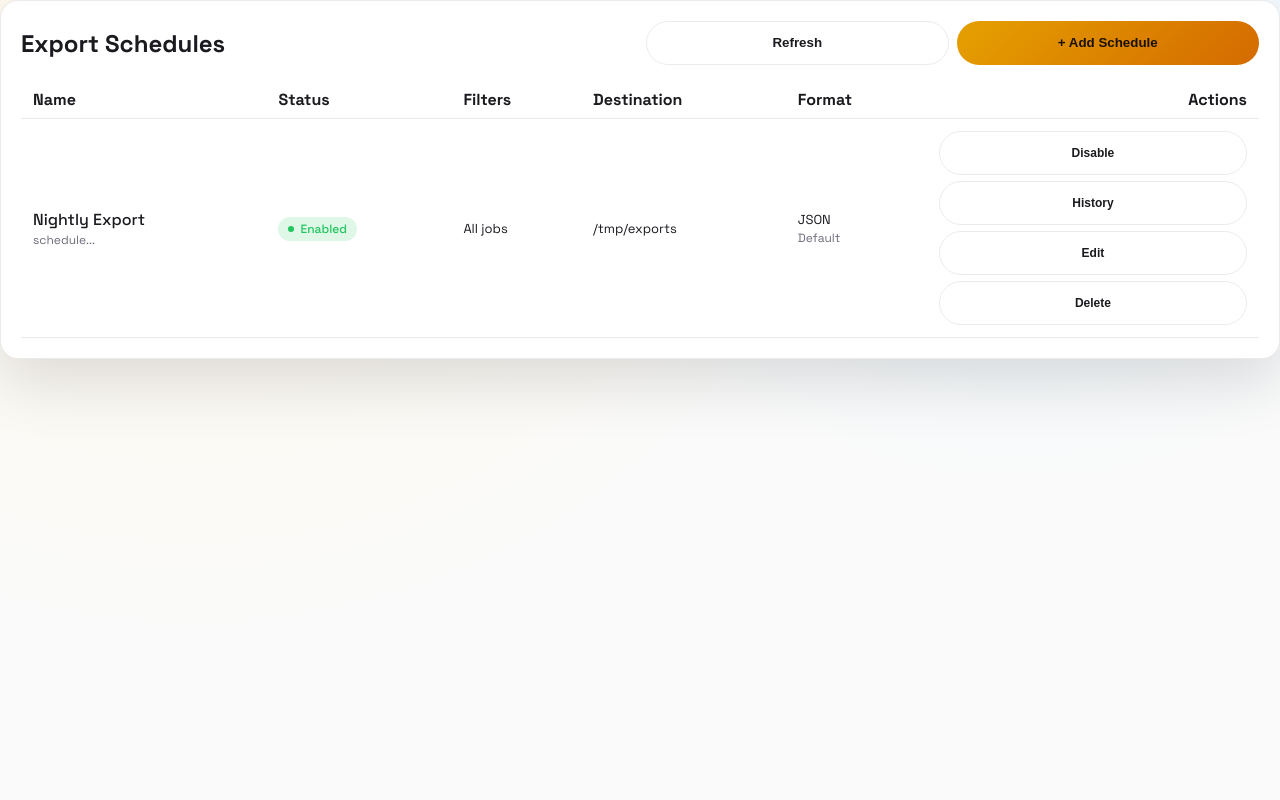
ExportScheduleManager › requests the next history page when a pagination button is clicked
The width and height of the screenshot is (1280, 800).
Click the button "History": {"x": 1093, "y": 203} [939,181,1247,225]
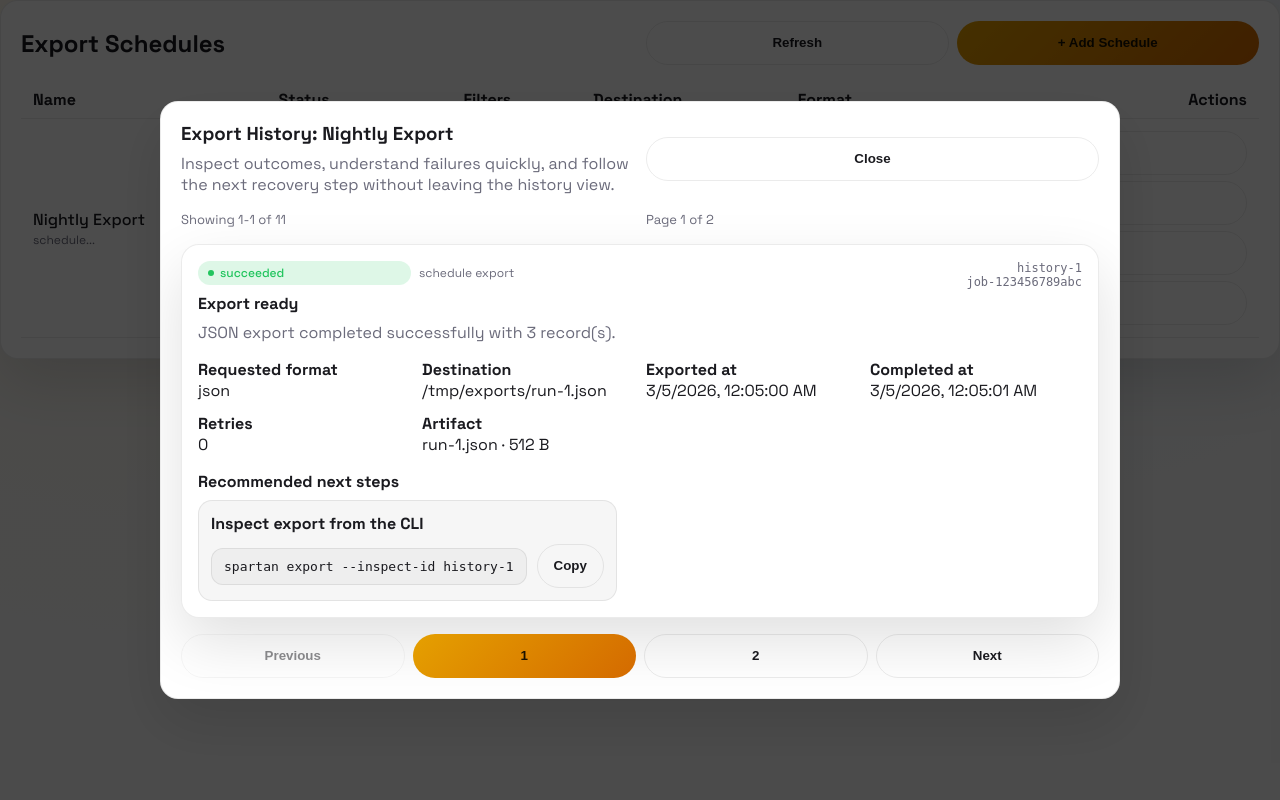
Check: the heading "Export History: Nightly Export" is shown, box [181,122,454,145]
Click the button "Next": {"x": 987, "y": 656} [876,634,1099,678]
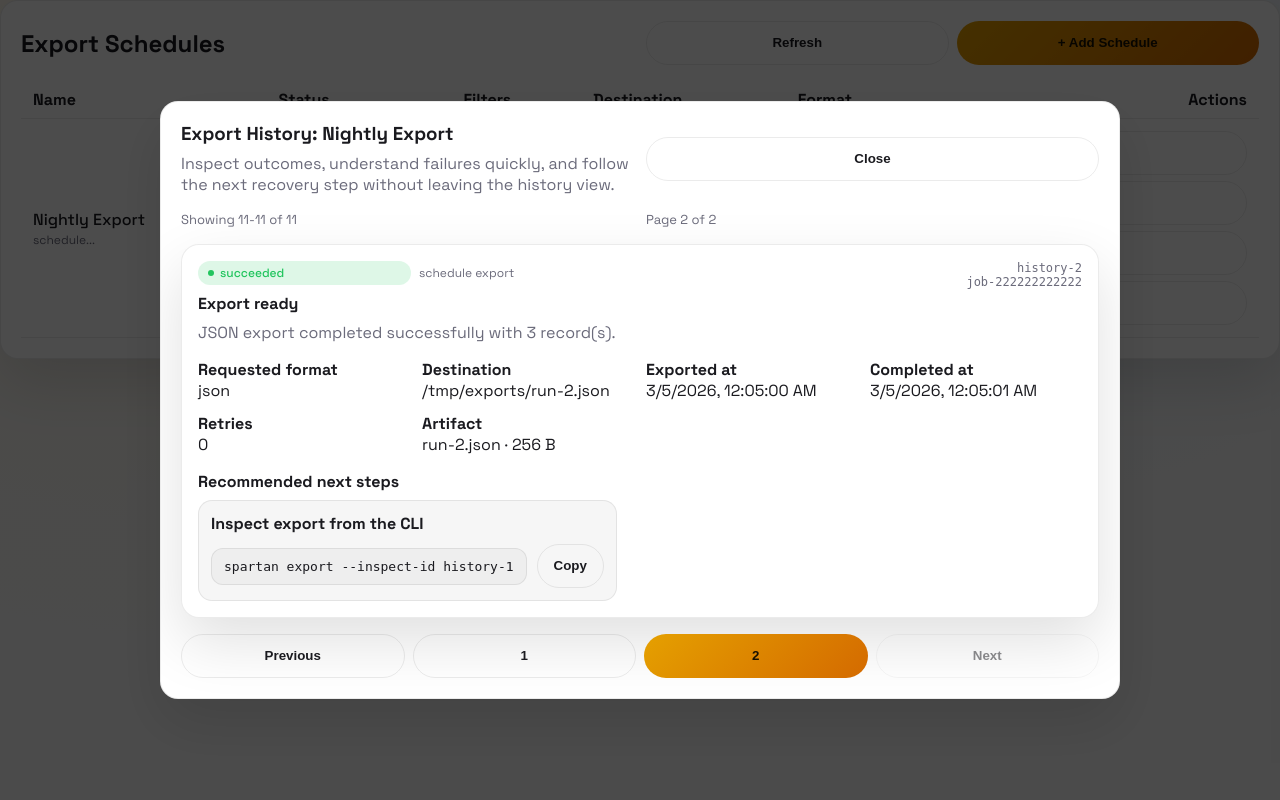
Check: the text "Showing 11-11 of 11" is shown, box [181,211,297,228]
